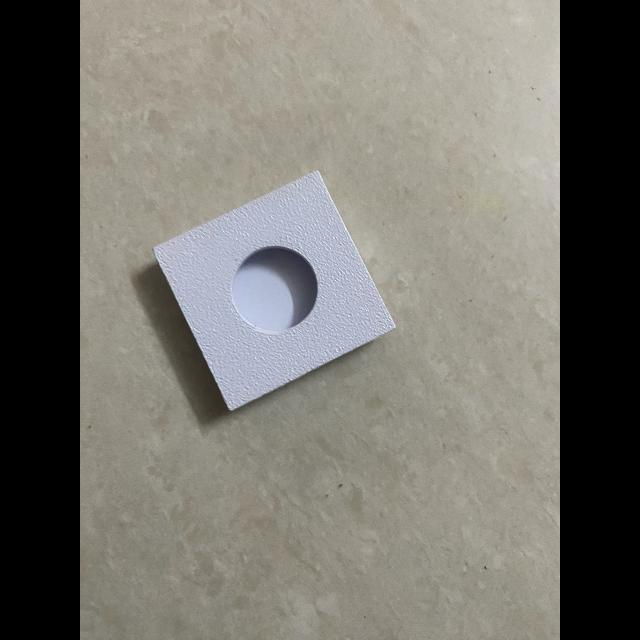RASPBERY PI CAM ENCLOSURE: (153, 170, 397, 412)
